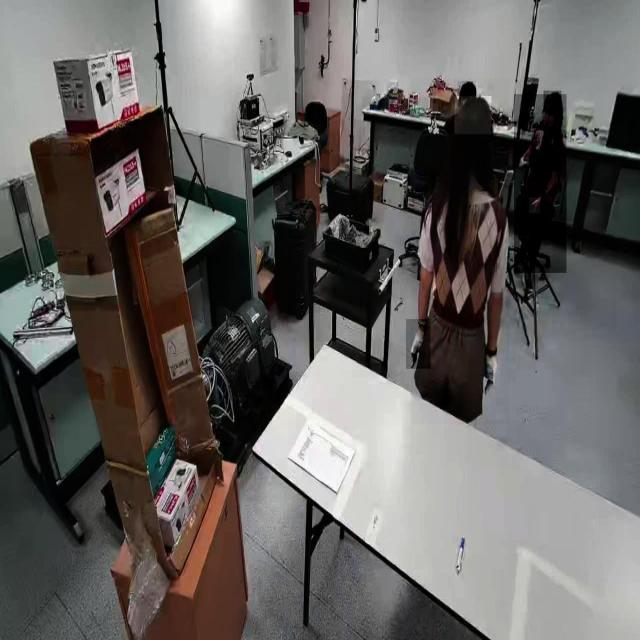hand_glove: (406, 319, 431, 370), (483, 347, 501, 388)
hand_noglove: (529, 131, 541, 150), (529, 198, 541, 215)
head_nohelmet: (454, 96, 492, 135), (458, 81, 477, 96), (544, 91, 562, 105)
person: (411, 78, 509, 425), (514, 94, 567, 274)
